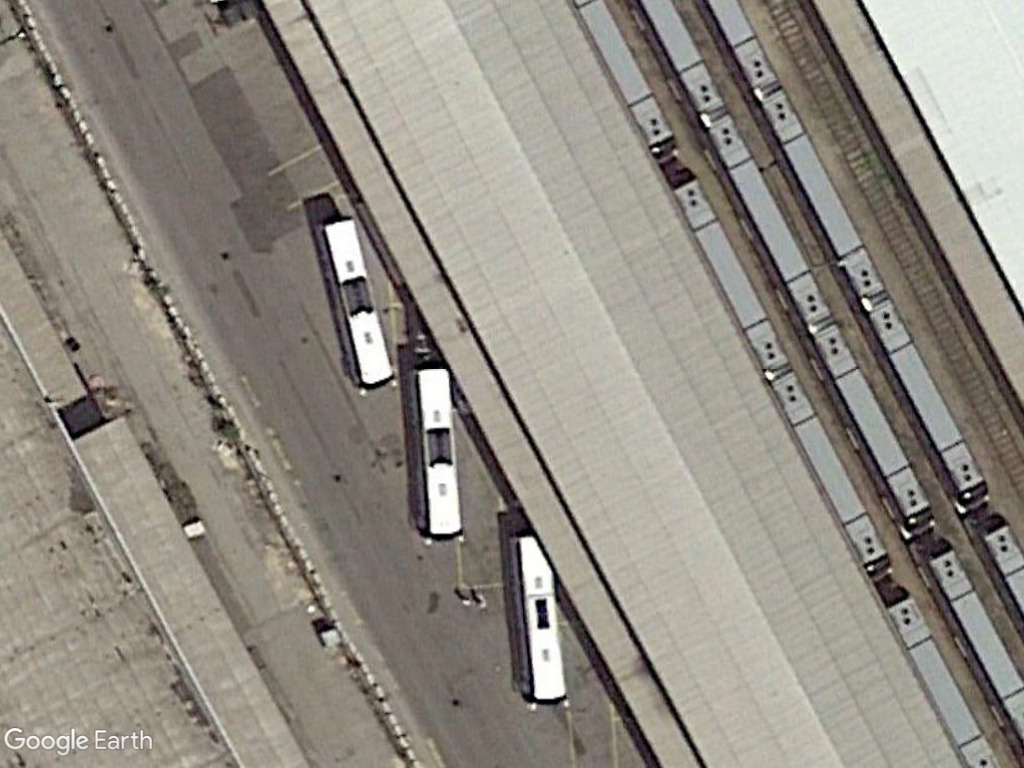bus: (311, 214, 400, 398), (404, 359, 467, 547), (507, 530, 571, 714)
